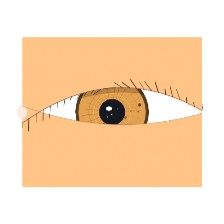pinguecula_lesion: (47, 100, 85, 130)
